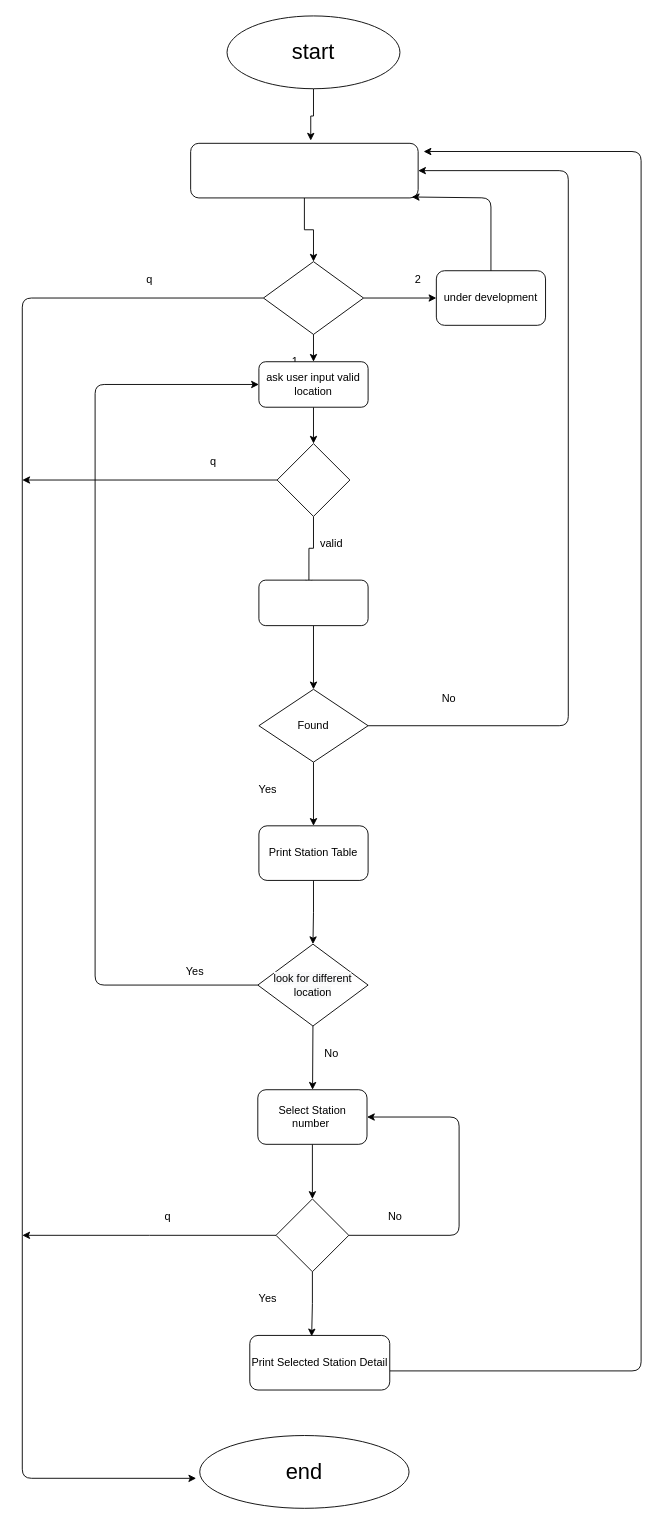
Image size: 664x1524. Some labels were removed from this diagram. Each missing label, with the centre of its shape:
choice (1, 2 or q): the point at 313,297
input validation: the point at 313,479
main menu - location(suburb or pastcode) - specific fueltype: the point at 304,170
search for station: the point at 313,602
Validate: the point at 312,1235
